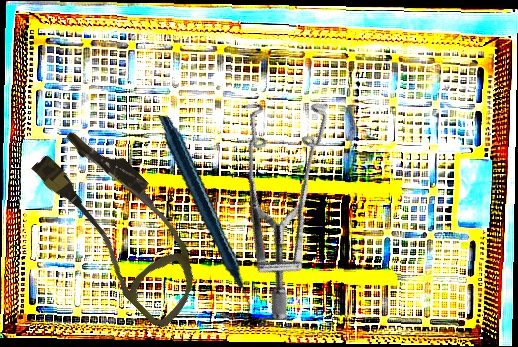Cannula: (14, 117, 229, 332)
Handpiece: (121, 115, 288, 317)
Speculum: (153, 64, 401, 324)
